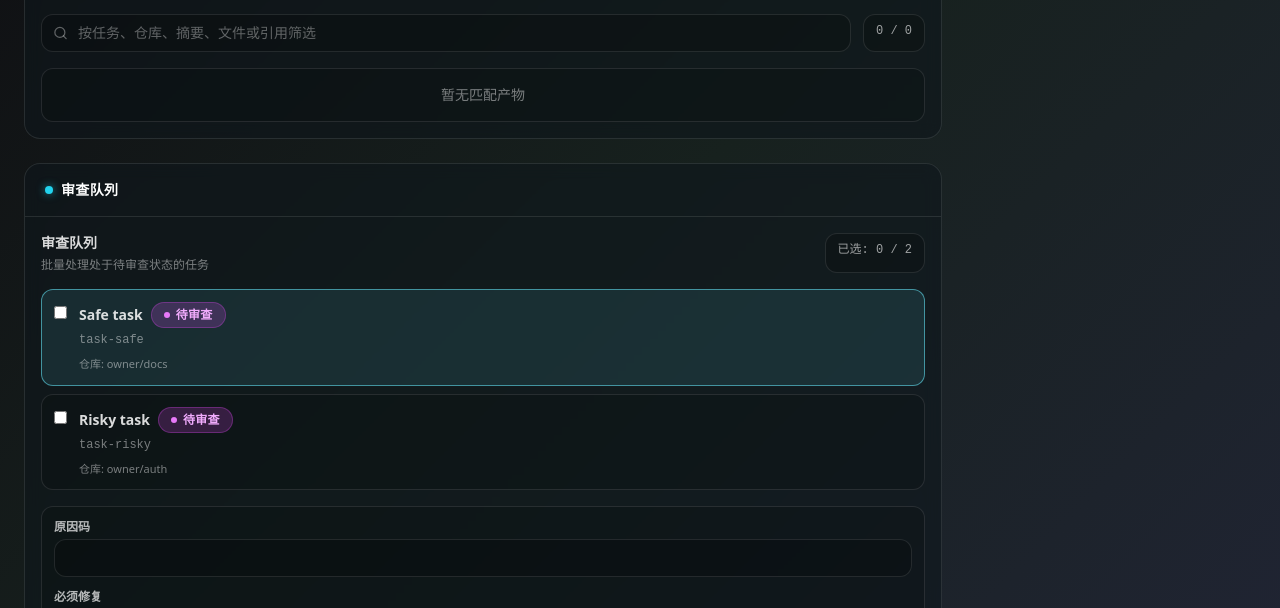
Test case: App dashboard loading › shows bulk review failures in the review queue instead of an alert
(page scrolled)
Click the checkbox named "选择任务 task-safe": (60, 312) [54,306,67,319]
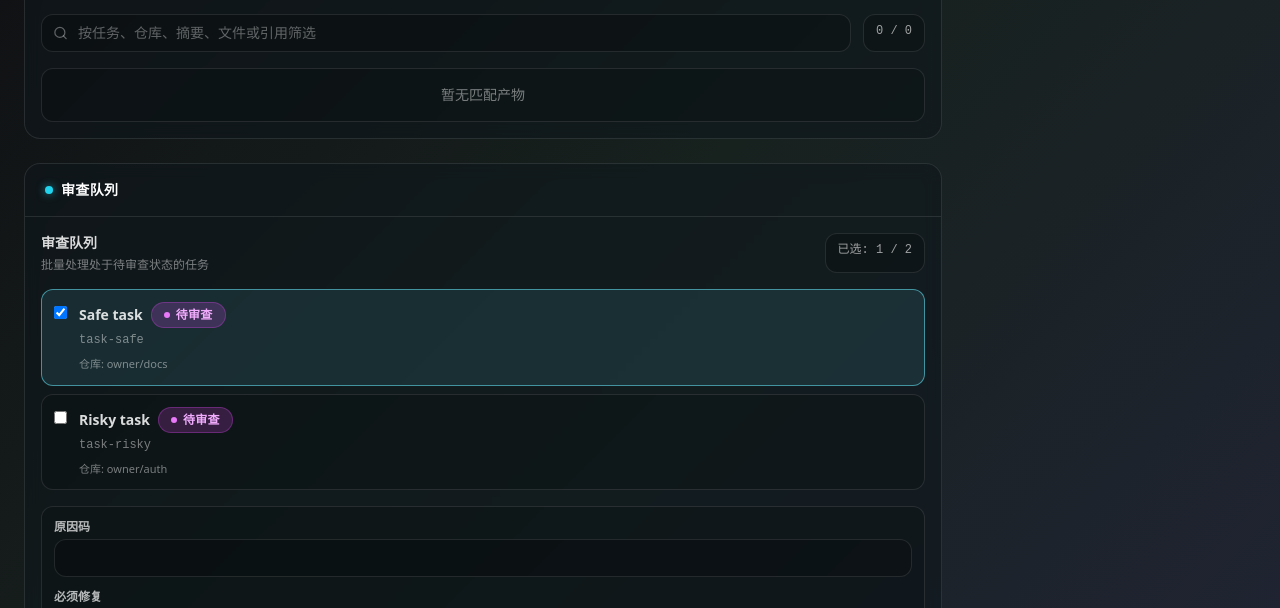
Click the checkbox named "选择任务 task-risky": (60, 417) [54,410,67,424]
(page scrolled)
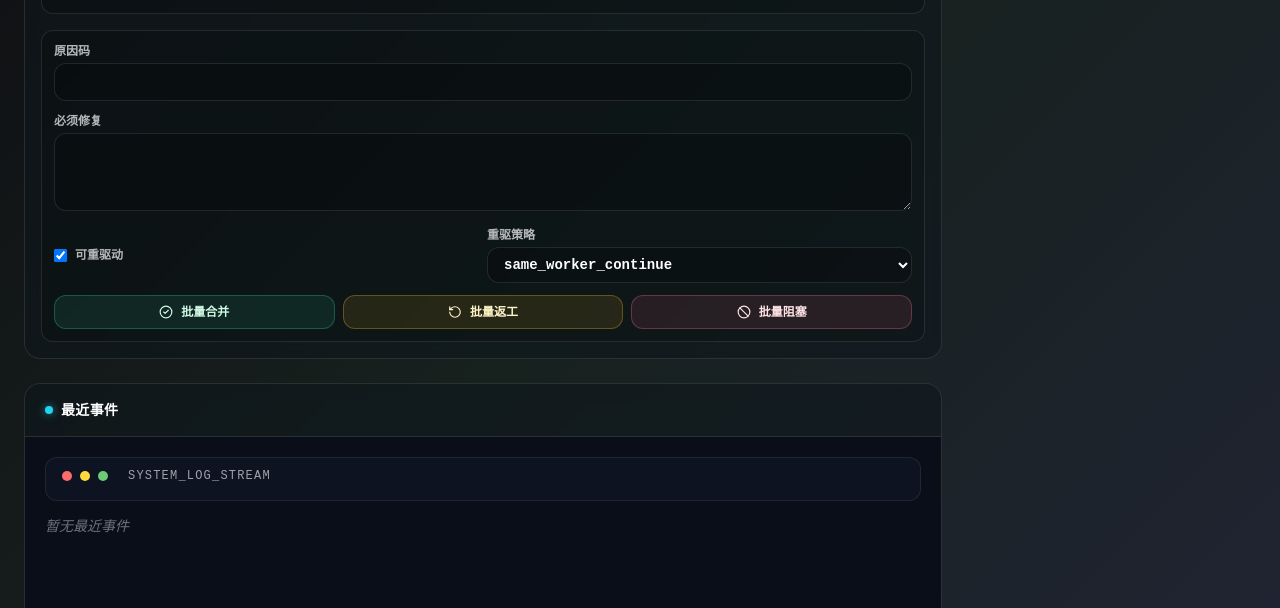
Click the button "批量返工": (483, 312) [343,295,623,329]
(page scrolled)
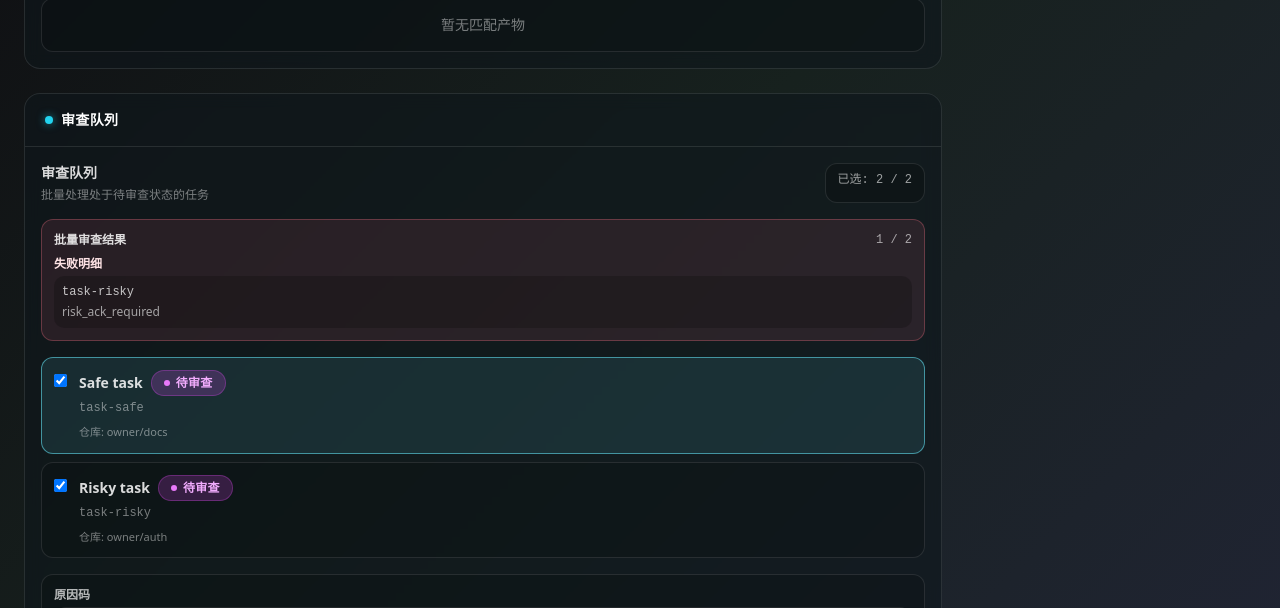
Expected: the text "批量审查结果" is shown, [54,232,126,248]
Expected: the text "1 / 2" is shown, [876,232,912,248]
Expected: the text "risk_ack_required" is shown, [62,303,160,320]
